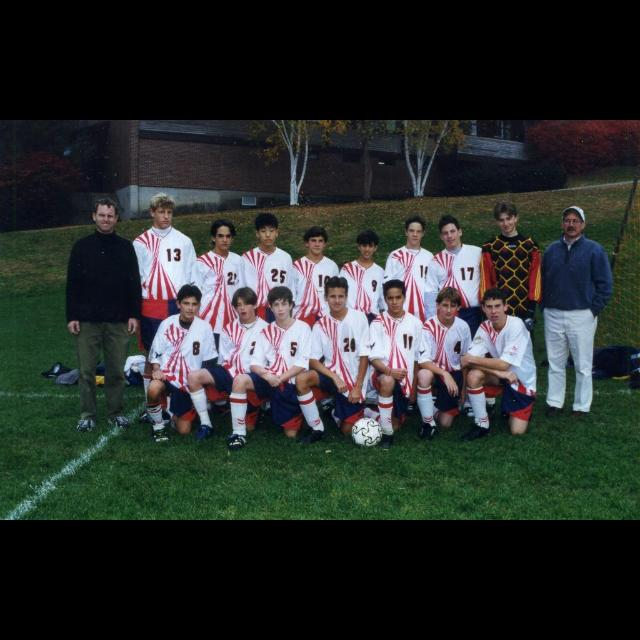Football: (352, 417, 384, 448)
